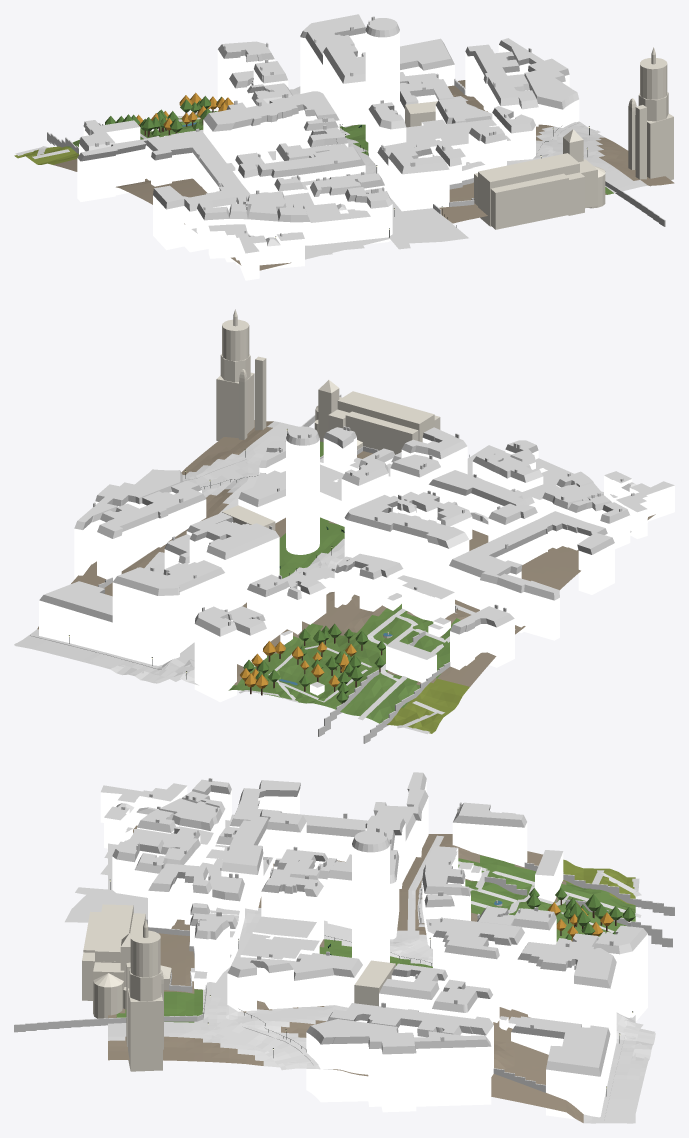
Rendered from zone_E5.glb.
The picture shows the model from 3 angles, top to bottom: view 1: azimuth 30°, elevation 25°; view 2: azimuth 150°, elevation 25°; view 3: azimuth 270°, elevation 25°; orthographic projection. The views are drawn at different scales.
Visible parts, largest first — view 1: zone_E5_batiments, zone_E5_terrain, zone_E5_sol_NOCOL, zone_E5_decor_NOCOL; view 2: zone_E5_batiments, zone_E5_terrain, zone_E5_sol_NOCOL, zone_E5_decor_NOCOL; view 3: zone_E5_batiments, zone_E5_terrain, zone_E5_sol_NOCOL, zone_E5_decor_NOCOL.
Part boxes in pixels (bbox=[...]): zone_E5_batiments: bbox=[47, 14, 673, 280]; zone_E5_terrain: bbox=[14, 80, 674, 270]; zone_E5_sol_NOCOL: bbox=[15, 86, 633, 257]; zone_E5_decor_NOCOL: bbox=[105, 92, 589, 237]; zone_E5_batiments: bbox=[39, 309, 674, 743]; zone_E5_terrain: bbox=[14, 420, 655, 733]; zone_E5_sol_NOCOL: bbox=[14, 424, 603, 734]; zone_E5_decor_NOCOL: bbox=[69, 429, 469, 703]; zone_E5_batiments: bbox=[14, 772, 674, 1119]; zone_E5_terrain: bbox=[108, 814, 635, 1123]; zone_E5_sol_NOCOL: bbox=[65, 814, 655, 1123]; zone_E5_decor_NOCOL: bbox=[109, 879, 635, 1096].
Size of the model in its own units: 211 by 79.11 by 229.
